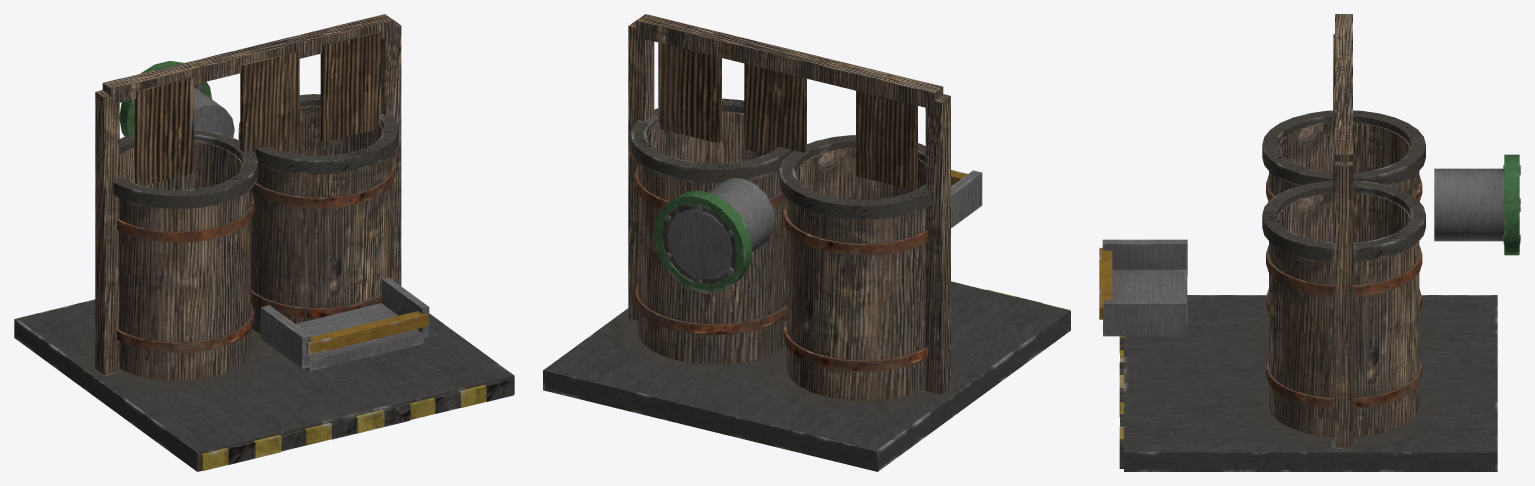
Rendered from feTannery_HD.fbx.
The picture shows the model from 3 angles, left to right: view 1: azimuth 30°, elevation 25°; view 2: azimuth 150°, elevation 25°; view 3: azimuth 270°, elevation 25°; orthographic projection. The views are drawn at different scales.
Visible parts, largest first — view 1: feTannery_Base; view 2: feTannery_Base; view 3: feTannery_Base.
Part boxes in pixels (x1=…): feTannery_Base: x1=14, y1=14, x2=514, y2=471; feTannery_Base: x1=543, y1=14, x2=1070, y2=471; feTannery_Base: x1=1099, y1=14, x2=1520, y2=471.
Bounding box in the file's own units: 0.9012 × 0.8236 × 1.02.
Materials: 2 (1 with a texture image).
